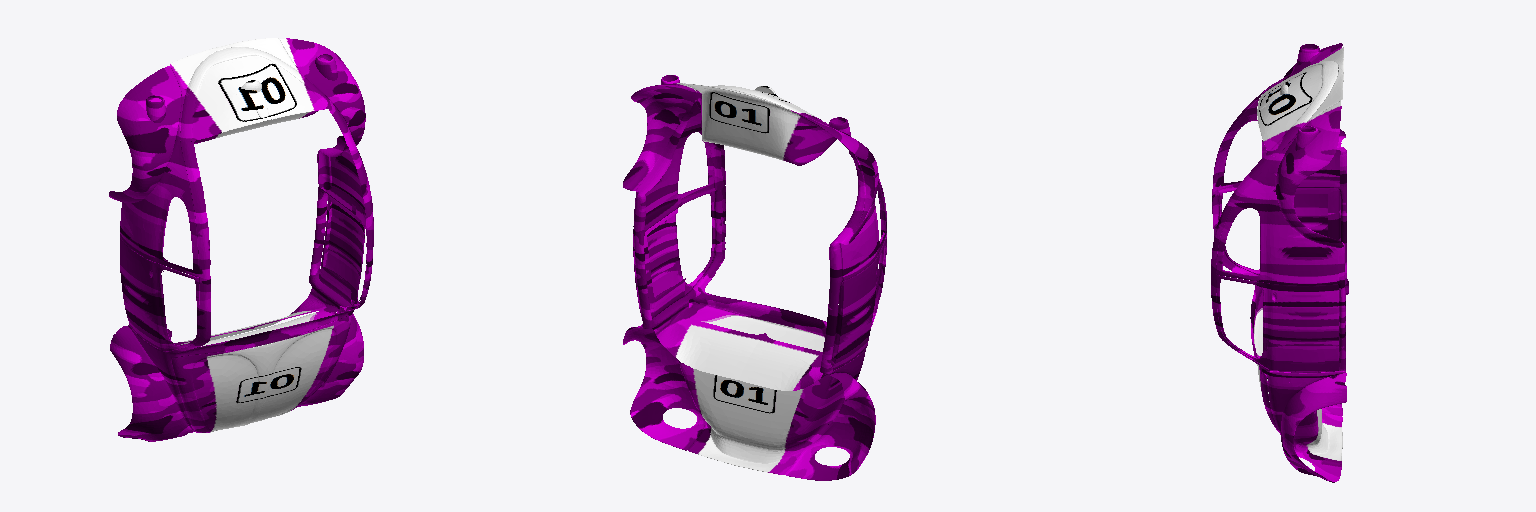
3 renders of one model, left to right at view 1: azimuth 30°, elevation 25°; view 2: azimuth 150°, elevation 25°; view 3: azimuth 270°, elevation 25°, orthographic.
Parts seen in each view (by area): view 1: Car_Body; view 2: Car_Body; view 3: Car_Body.
Part boxes in pixels (left/top/right/bottom): Car_Body: left=109, top=38, right=373, bottom=441; Car_Body: left=623, top=75, right=886, bottom=480; Car_Body: left=1211, top=43, right=1348, bottom=482.
Size of the model in its own units: 457 by 702 by 235.
1 materials, 1 textured.